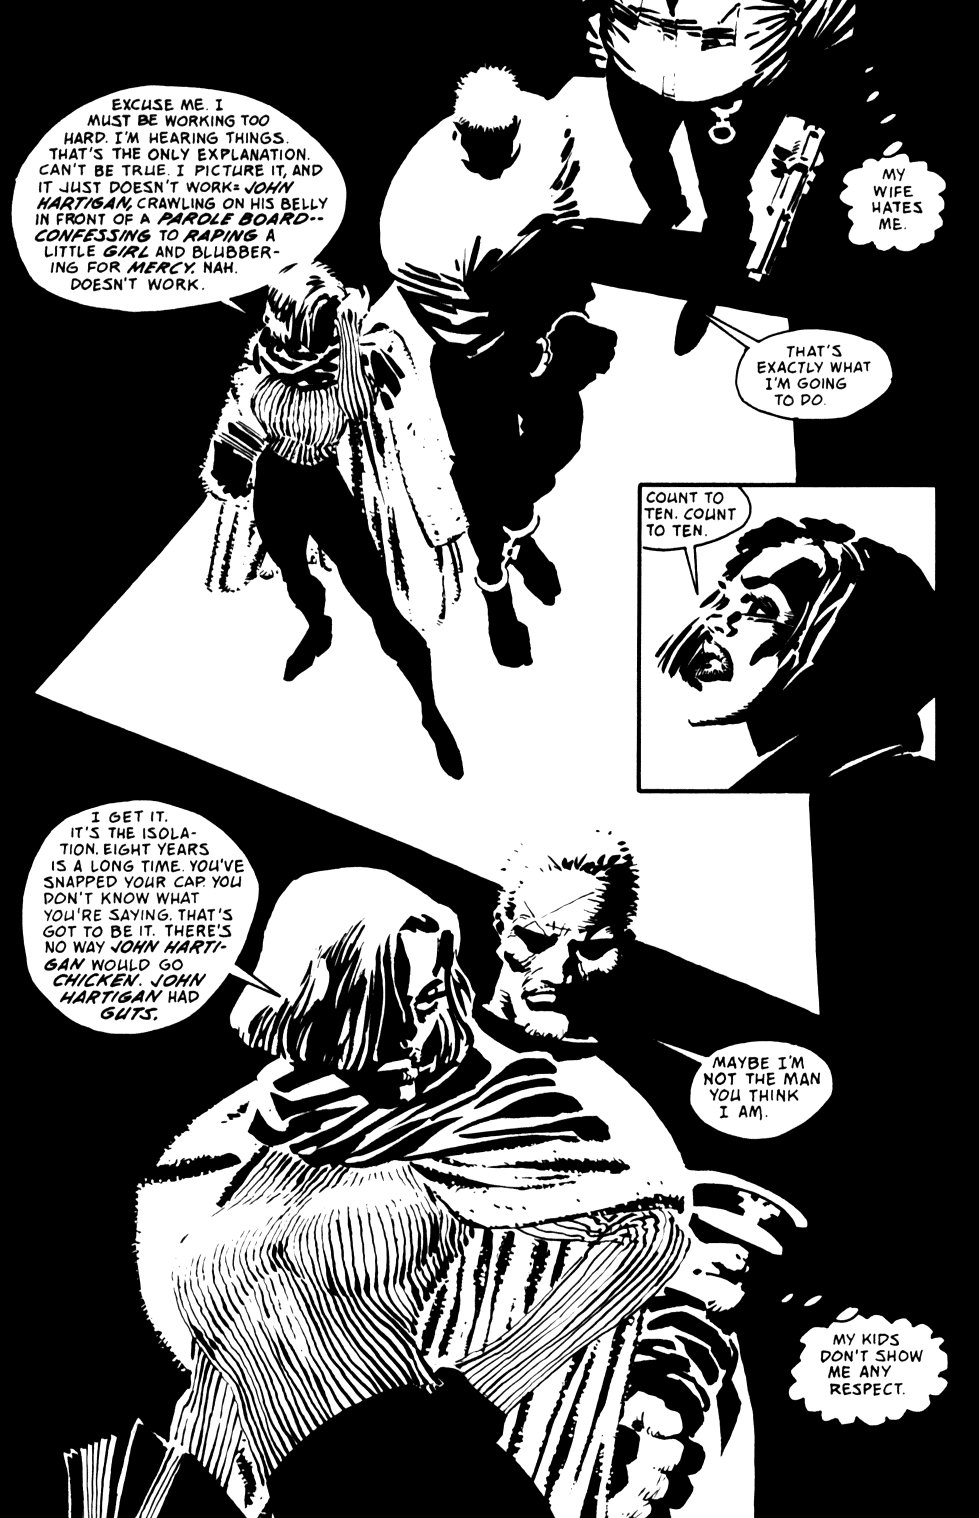Baloon: (15, 77, 348, 319), (20, 801, 281, 1038), (767, 1287, 952, 1433), (704, 312, 897, 429), (665, 1036, 846, 1142), (832, 136, 939, 259), (639, 474, 753, 589)
Vignetta: (4, 6, 978, 1044), (13, 794, 979, 1512), (640, 482, 948, 796)
